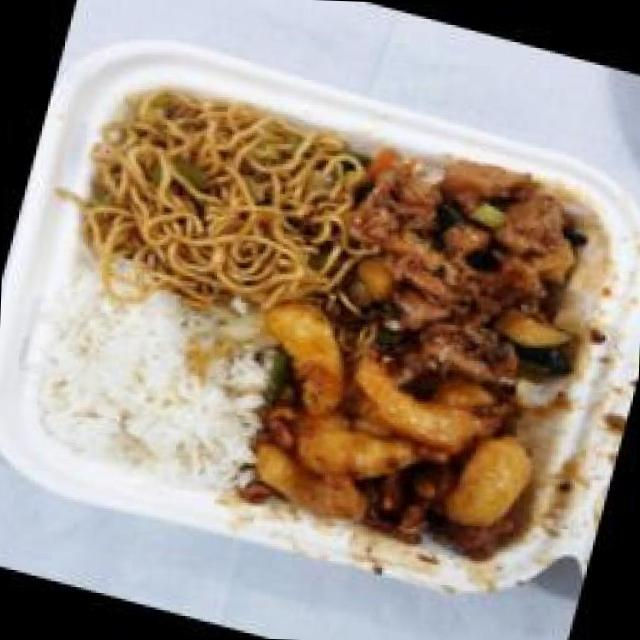Chow Mein: (60, 63, 376, 332)
Honey Walnut Shrimp: (223, 304, 570, 586)
Kung Pao Chicken: (306, 129, 626, 423)
White Steamed Rice: (11, 269, 284, 501)
